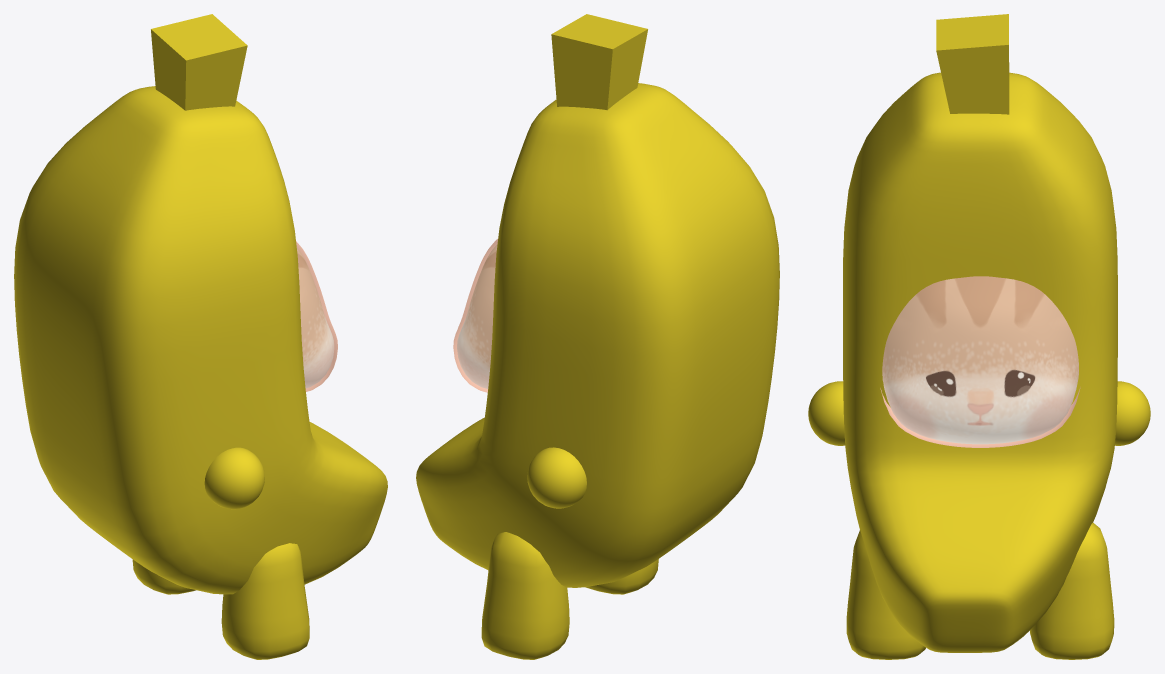
The model's file is bananaCat.glb.
3 renders of one model, left to right at view 1: azimuth 30°, elevation 25°; view 2: azimuth 150°, elevation 25°; view 3: azimuth 270°, elevation 25°, orthographic. The views are drawn at different scales.
Visible parts, largest first — view 1: colorPart, Object_19, Object_20; view 2: colorPart, Object_19, Object_20; view 3: colorPart, Object_19, Object_20.
Part boxes in pixels (x1,y1,x2,y2): colorPart: (14, 14, 387, 659); Object_19: (296, 247, 334, 388); Object_20: (296, 241, 337, 391); colorPart: (416, 14, 779, 659); Object_19: (457, 244, 497, 388); Object_20: (453, 238, 498, 392); colorPart: (808, 14, 1150, 659); Object_19: (882, 276, 1078, 444); Object_20: (880, 387, 1080, 447).
Size of the model in its own units: 1.64 by 3.01 by 1.55.
3 materials, 1 textured.
